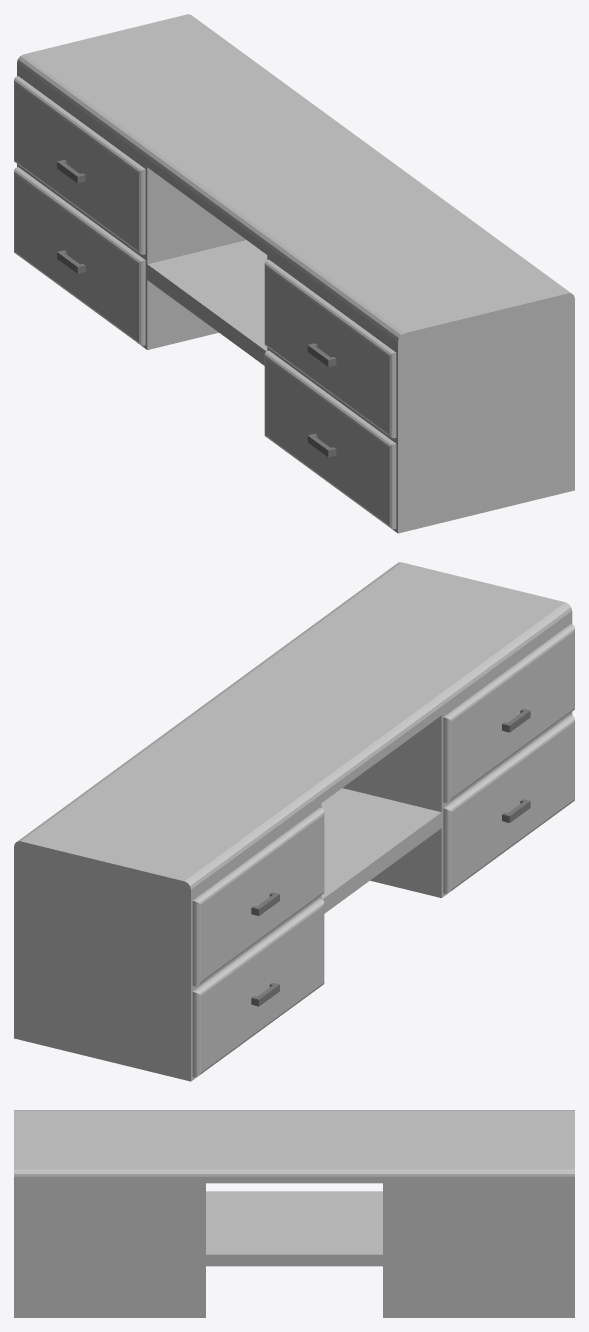
The model's file is Wardrobe_4.fbx.
3 views of the same model, one above another, from view 1: azimuth 30°, elevation 25°; view 2: azimuth 150°, elevation 25°; view 3: azimuth 270°, elevation 25° (orthographic). The views are drawn at different scales.
Parts seen in each view (by area): view 1: Wardrobe_4, Wardrobe_4 Door_1, Wardrobe_4 Door_2, Wardrobe_4 Door_3, Wardrobe_4 Door_4; view 2: Wardrobe_4, Wardrobe_4 Door_3, Wardrobe_4 Door_4, Wardrobe_4 Door_1, Wardrobe_4 Door_2; view 3: Wardrobe_4.
Boxes of the visible parts, x1,y1,x2,y2 form: Wardrobe_4: (17,14,574,533); Wardrobe_4 Door_1: (264,259,396,438); Wardrobe_4 Door_2: (264,350,396,529); Wardrobe_4 Door_3: (14,76,145,254); Wardrobe_4 Door_4: (14,167,145,345); Wardrobe_4: (14,562,572,1081); Wardrobe_4 Door_3: (192,808,324,986); Wardrobe_4 Door_4: (192,899,324,1077); Wardrobe_4 Door_1: (443,624,574,802); Wardrobe_4 Door_2: (443,715,574,893); Wardrobe_4: (14,1110,574,1317).
Size of the model in its own units: 0.5413 by 0.5379 by 1.87.
